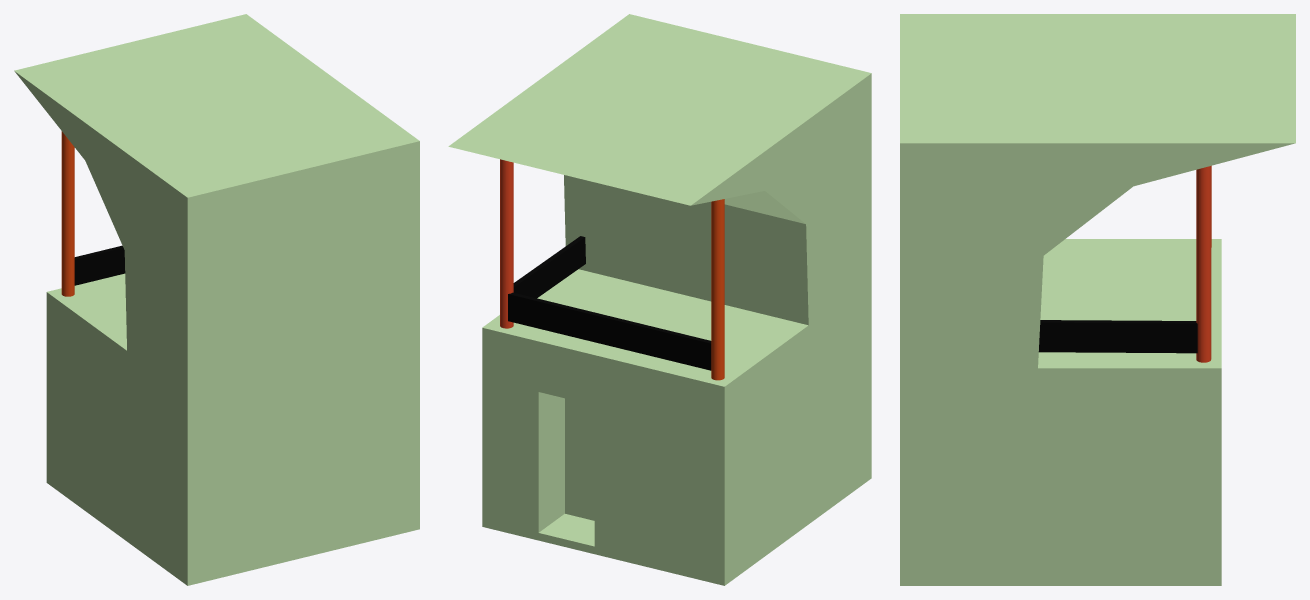
Rendered from Street_Sma.fbx.
3 views of the same model, side by side, from view 1: azimuth 30°, elevation 25°; view 2: azimuth 150°, elevation 25°; view 3: azimuth 270°, elevation 25° (orthographic). The views are drawn at different scales.
Visible parts, largest first — view 1: Cube, Cylinder.001, Cube.001; view 2: Cube, Cube.001, Cylinder.001, Cylinder, Cube.003; view 3: Cube, Cube.003, Cylinder.
Boxes of the visible parts, x1,y1,x2,y2 form: Cube: (14,14,419,585); Cylinder.001: (61,131,74,296); Cube.001: (74,245,125,285); Cube: (448,14,871,585); Cube.001: (508,292,711,370); Cylinder.001: (711,199,724,380); Cylinder: (500,159,513,328); Cube.003: (513,236,585,298); Cube: (900,14,1295,585); Cube.003: (1038,320,1197,353); Cylinder: (1196,166,1211,362).
Bounding box in the file's own units: 660 × 1053 × 854.
